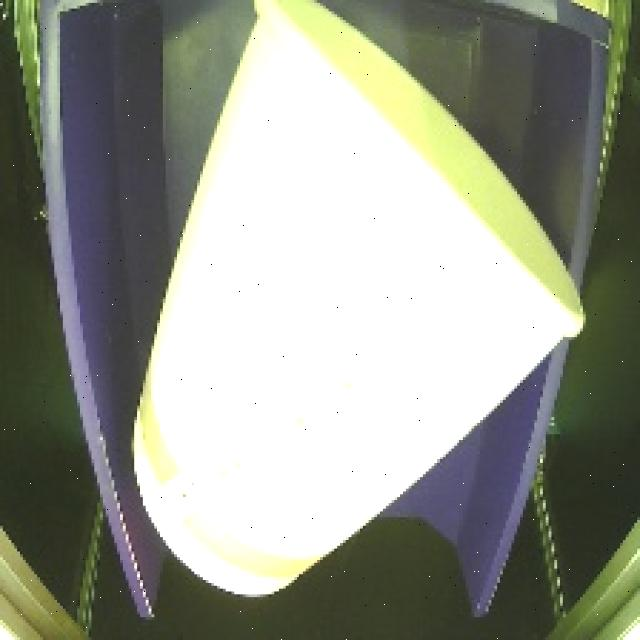cups: (120, 0, 603, 612)
